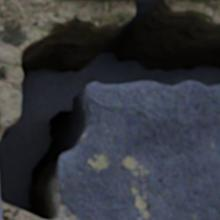brick: (0, 195, 2, 219), (92, 0, 112, 1)
broken_brick: (57, 81, 219, 219)
crack: (0, 0, 219, 219)
